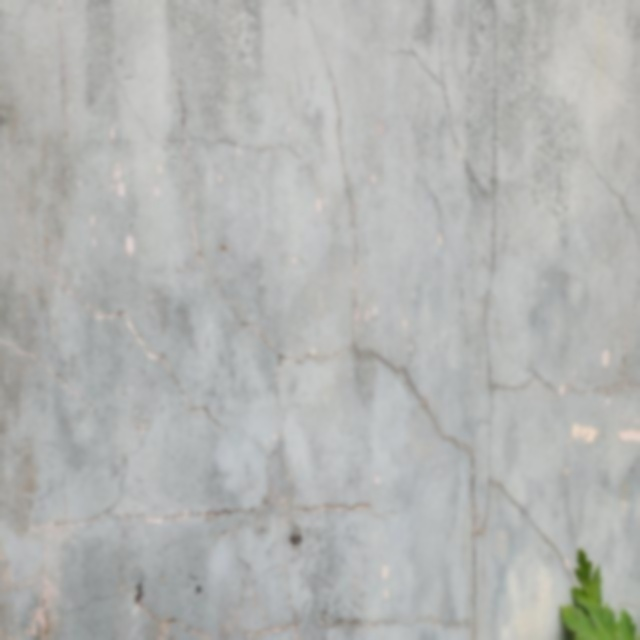SurfaceCrack: (0, 254, 499, 507)
